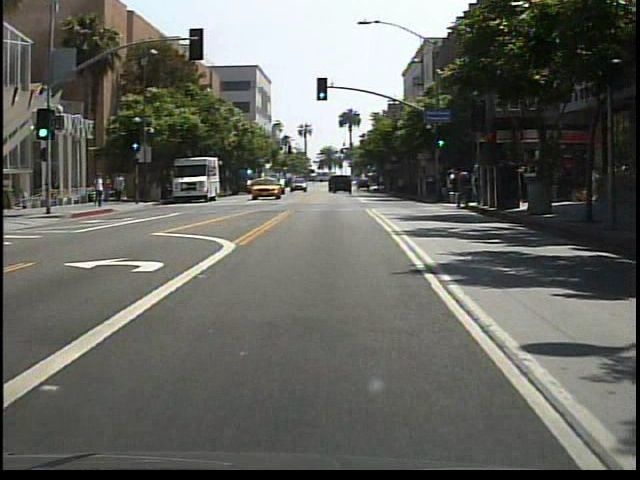person: (113, 171, 129, 204), (94, 173, 107, 210), (42, 182, 58, 210), (104, 175, 117, 204)
